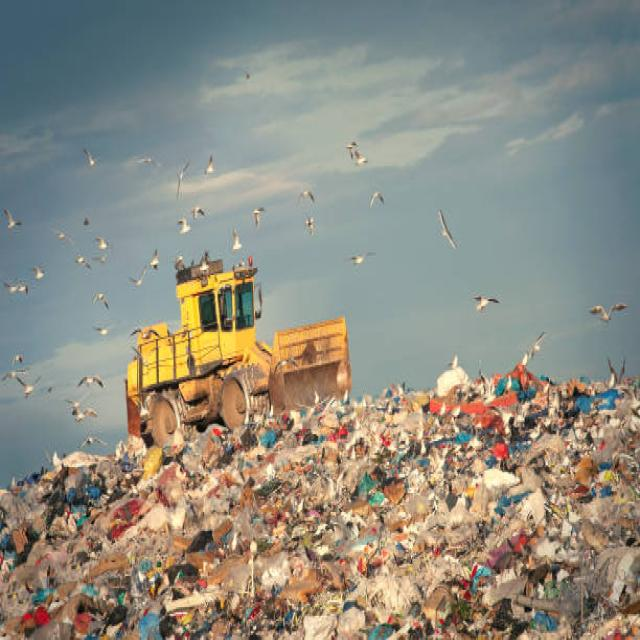trash: (64, 391, 627, 600)
